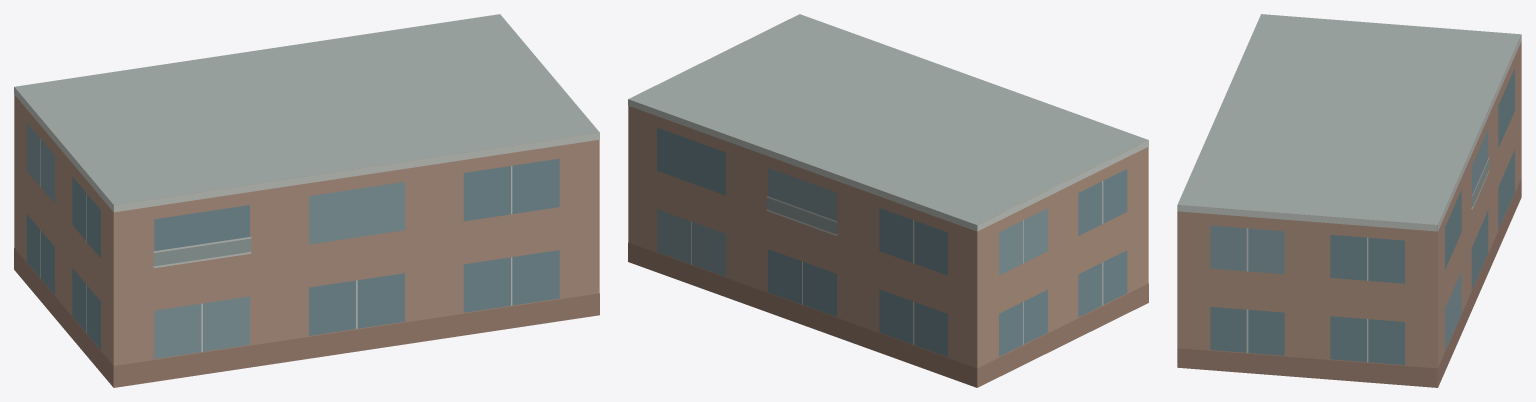
Rendered from survey-upis-32710952.glb.
3 renders of one model, left to right at view 1: azimuth 30°, elevation 25°; view 2: azimuth 150°, elevation 25°; view 3: azimuth 270°, elevation 25°, orthographic. The views are drawn at different scales.
Visible parts, largest first — view 1: survey-upis-32710952.tmp; view 2: survey-upis-32710952.tmp; view 3: survey-upis-32710952.tmp.
Part boxes in pixels (left/top/right/bottom): survey-upis-32710952.tmp: left=14, top=14, right=599, bottom=387; survey-upis-32710952.tmp: left=628, top=14, right=1148, bottom=387; survey-upis-32710952.tmp: left=1177, top=14, right=1521, bottom=387.
Size of the model in its own units: 16.97 by 6.1 by 11.7.
